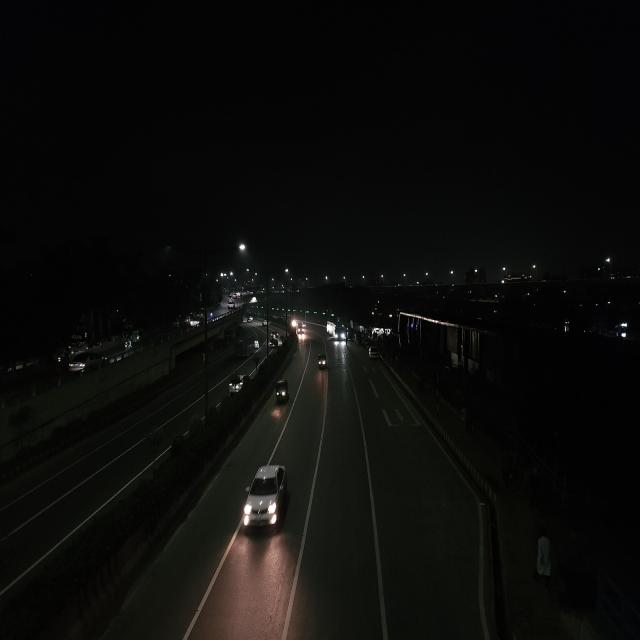bus: (325, 320, 344, 342), (332, 321, 348, 343), (235, 335, 252, 354)
car: (239, 461, 295, 542), (65, 349, 108, 375), (367, 344, 381, 362), (188, 315, 201, 330), (228, 299, 238, 309)
cng: (273, 376, 291, 407), (316, 352, 328, 373), (254, 339, 260, 349)
